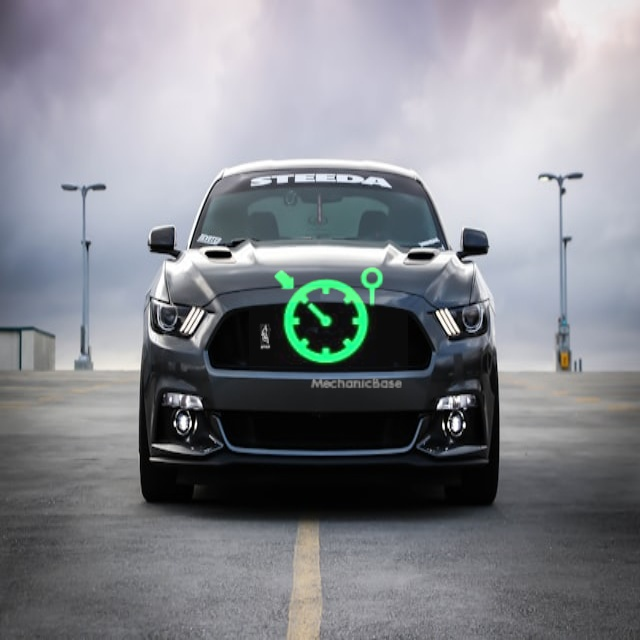symbol: (249, 237, 408, 396)
